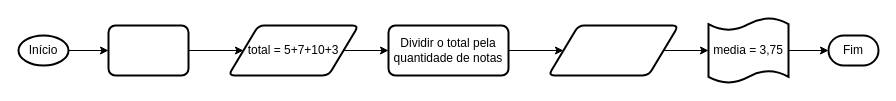
Image size: 896x101. Some labels were removed from this diagram. The shapes that lost their labels are listed below. From the top down, each one's centre as x and y in pixels, then its label:
At point (148, 50): "Somar todas as notas".
At point (613, 50): "media = total/4".
